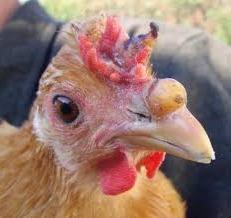AbNormal: (75, 12, 159, 82)
